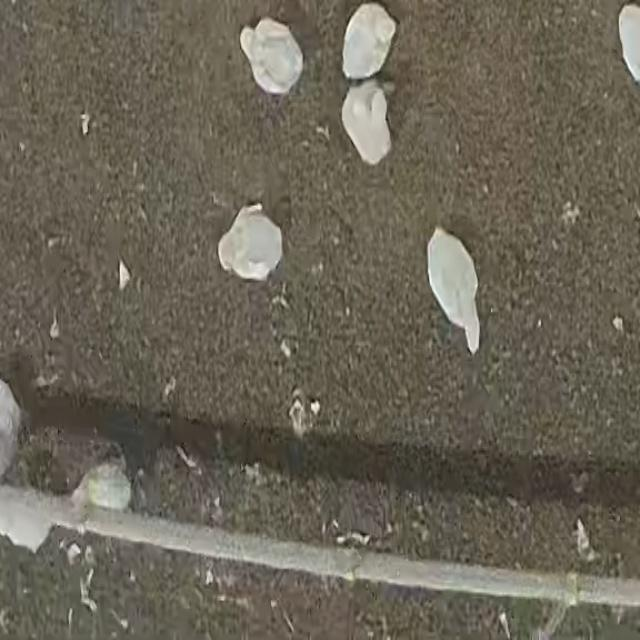chicken: (424, 224, 484, 354), (218, 205, 283, 282), (239, 18, 303, 96), (340, 81, 392, 165), (340, 4, 396, 82)
